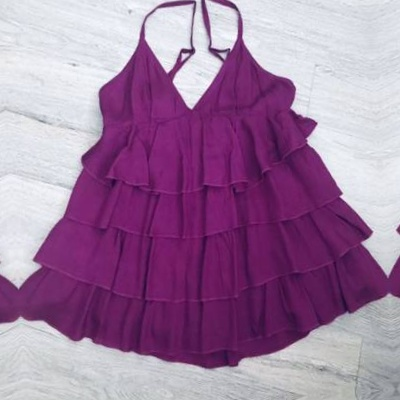Dress: (2, 0, 387, 383), (375, 0, 400, 356), (0, 14, 21, 400)
